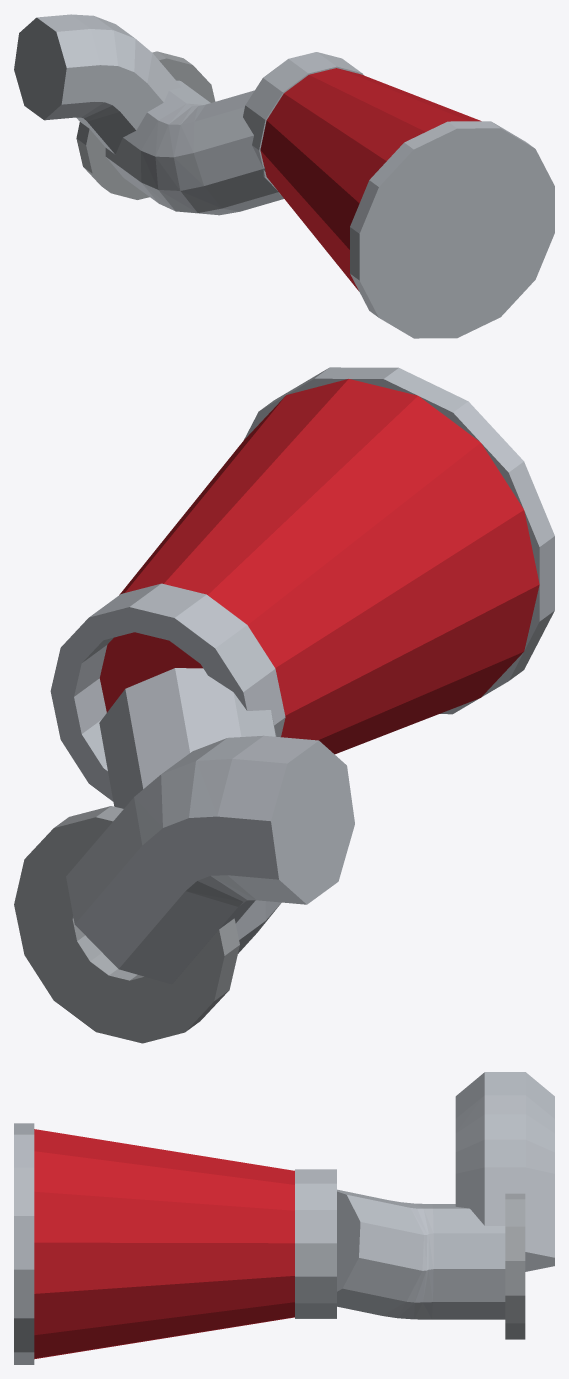
The model's file is hana_roadster.glb.
The picture shows the model from 3 angles, top to bottom: view 1: azimuth 30°, elevation 25°; view 2: azimuth 150°, elevation 25°; view 3: azimuth 270°, elevation 25°; orthographic projection. The views are drawn at different scales.
Parts seen in each view (by area): view 1: model; view 2: model; view 3: model.
Boxes of the visible parts, x1,y1,x2,y2 form: model: (14,14,554,338); model: (14,367,554,1043); model: (14,1072,554,1364).
Bounding box in the file's own units: 0.2044 × 0.1528 × 0.3216.
2 materials, 1 textured.
